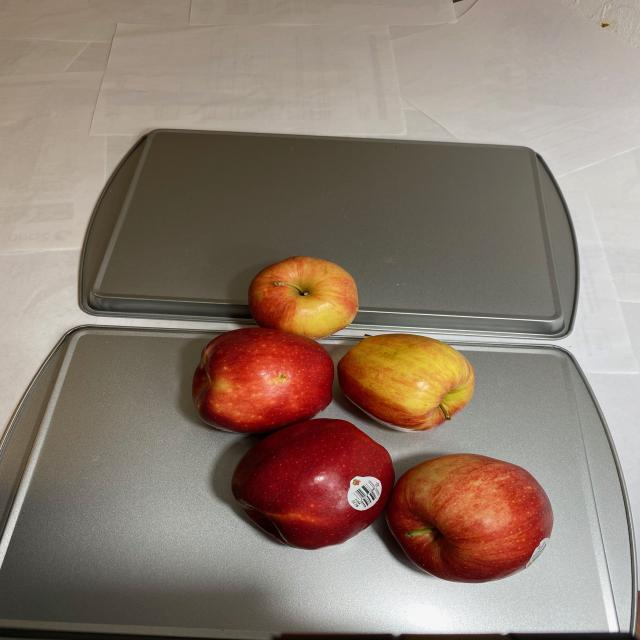apple: (189, 254, 553, 585)
